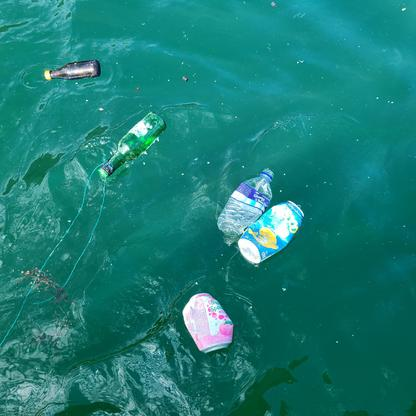can: (236, 200, 304, 263), (181, 292, 232, 353)
plastic bottle: (215, 167, 276, 235)
